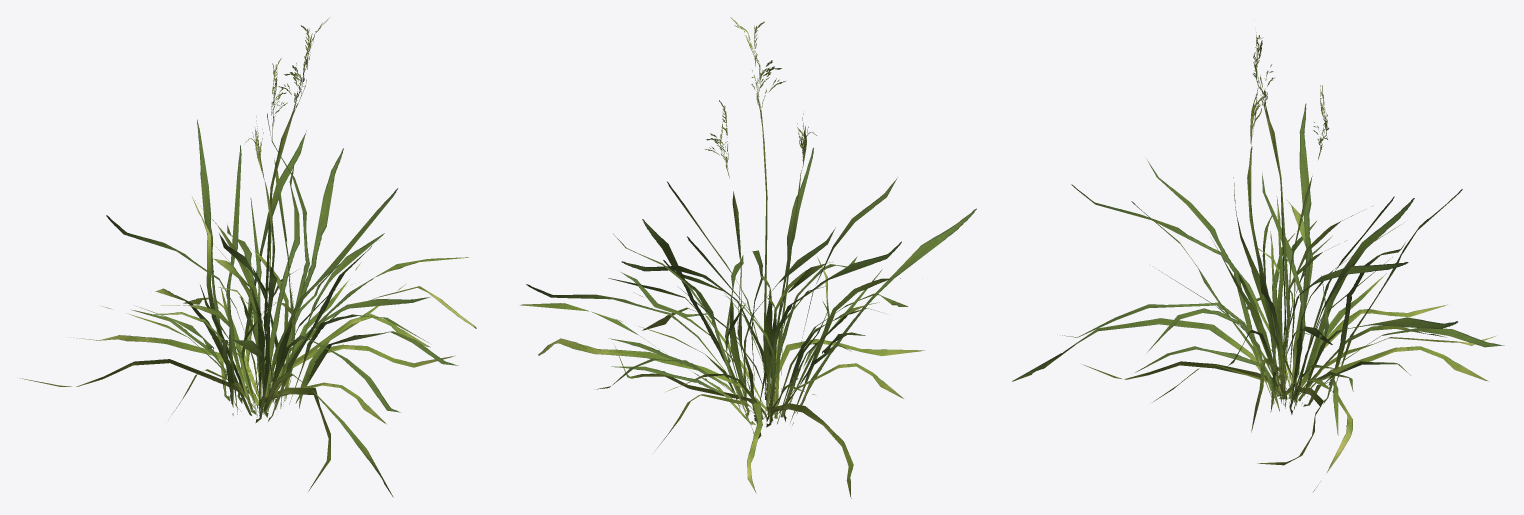
File: grass-near.glb
The picture shows the model from 3 angles, left to right: view 1: azimuth 30°, elevation 25°; view 2: azimuth 150°, elevation 25°; view 3: azimuth 270°, elevation 25°; orthographic projection. The views are drawn at different scales.
Visible parts, largest first — view 1: grass_medium_01_mid_b_LOD0; view 2: grass_medium_01_mid_b_LOD0; view 3: grass_medium_01_mid_b_LOD0.
Boxes of the visible parts, x1,y1,x2,y2 form: grass_medium_01_mid_b_LOD0: (19,17,476,497); grass_medium_01_mid_b_LOD0: (520,17,976,498); grass_medium_01_mid_b_LOD0: (1012,32,1504,491).
Size of the model in its own units: 1.05 by 1 by 1.13.
Materials: 1 (1 with a texture image).
